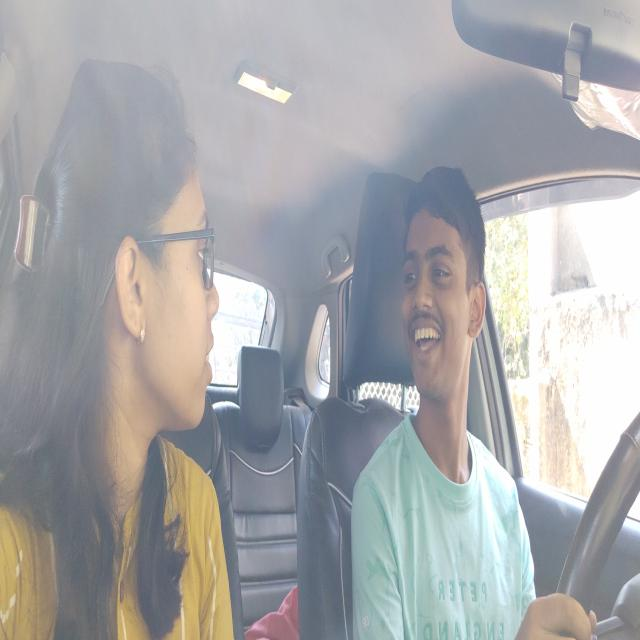LeftRight: (396, 164, 490, 415)
person: (35, 48, 223, 448)
talking: (404, 319, 445, 353), (204, 337, 218, 390)
